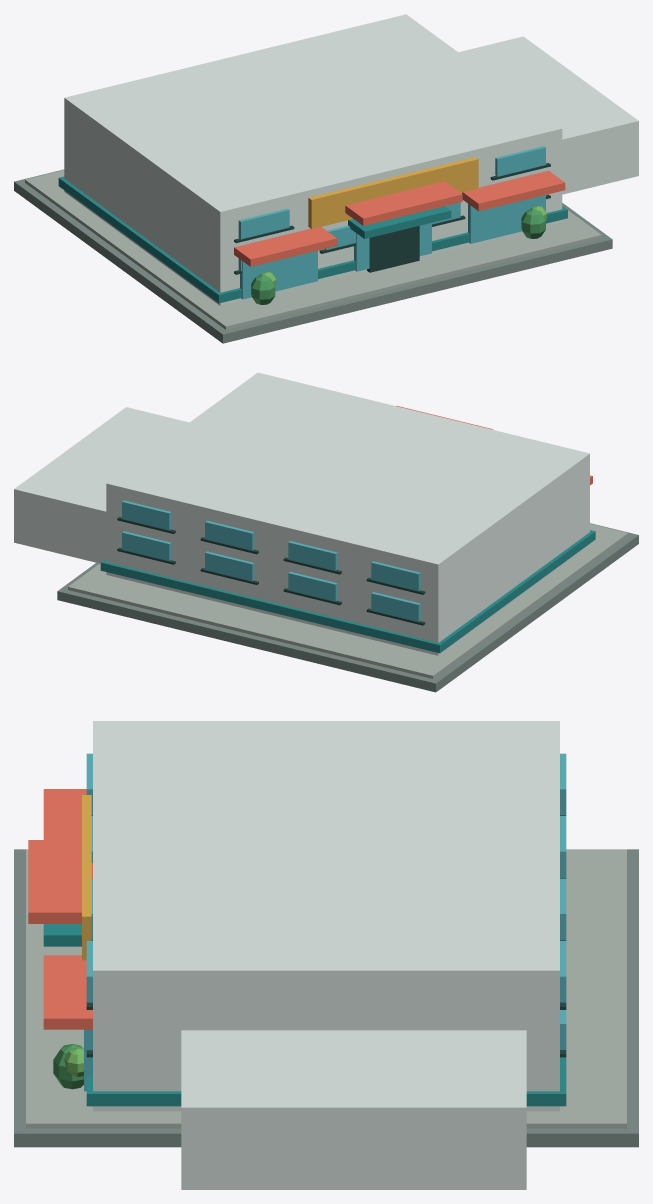
File: supermarket_lv3.glb
3 renders of one model, top to bottom at view 1: azimuth 30°, elevation 25°; view 2: azimuth 150°, elevation 25°; view 3: azimuth 270°, elevation 25°, orthographic. The views are drawn at different scales.
Parts seen in each view (by area): view 1: white, concrete, pavement, glass, coral, teal, gold, dark, green; view 2: white, concrete, pavement, glass, teal, dark; view 3: white, concrete, pavement, coral, glass, teal, gold, green.
Boxes of the visible parts, box(x1,y1,x2,y2) form: white: box(64, 14, 638, 305); concrete: box(25, 170, 601, 329); pavement: box(14, 169, 612, 343); glass: box(238, 146, 545, 299); coral: box(234, 170, 565, 266); teal: box(58, 176, 567, 303); gold: box(308, 157, 478, 228); dark: box(234, 163, 550, 274); green: box(251, 209, 545, 304); white: box(14, 372, 589, 655); concrete: box(68, 523, 628, 678); pavement: box(57, 523, 638, 692); glass: box(122, 500, 420, 621); teal: box(100, 530, 595, 653); dark: box(117, 517, 425, 625); white: box(93, 721, 559, 1189); concrete: box(26, 849, 626, 1128); pavement: box(14, 849, 638, 1147); coral: box(28, 789, 92, 1029); glass: box(84, 753, 566, 1091); teal: box(43, 924, 566, 1106); gold: box(82, 795, 91, 960); green: box(53, 1044, 83, 1089).
Bounding box in the file's own units: 11.87 × 2.56 × 9.1.
